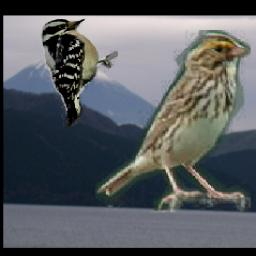Sparrow: (96, 31, 252, 213)
Woodpecker: (39, 16, 118, 128)
